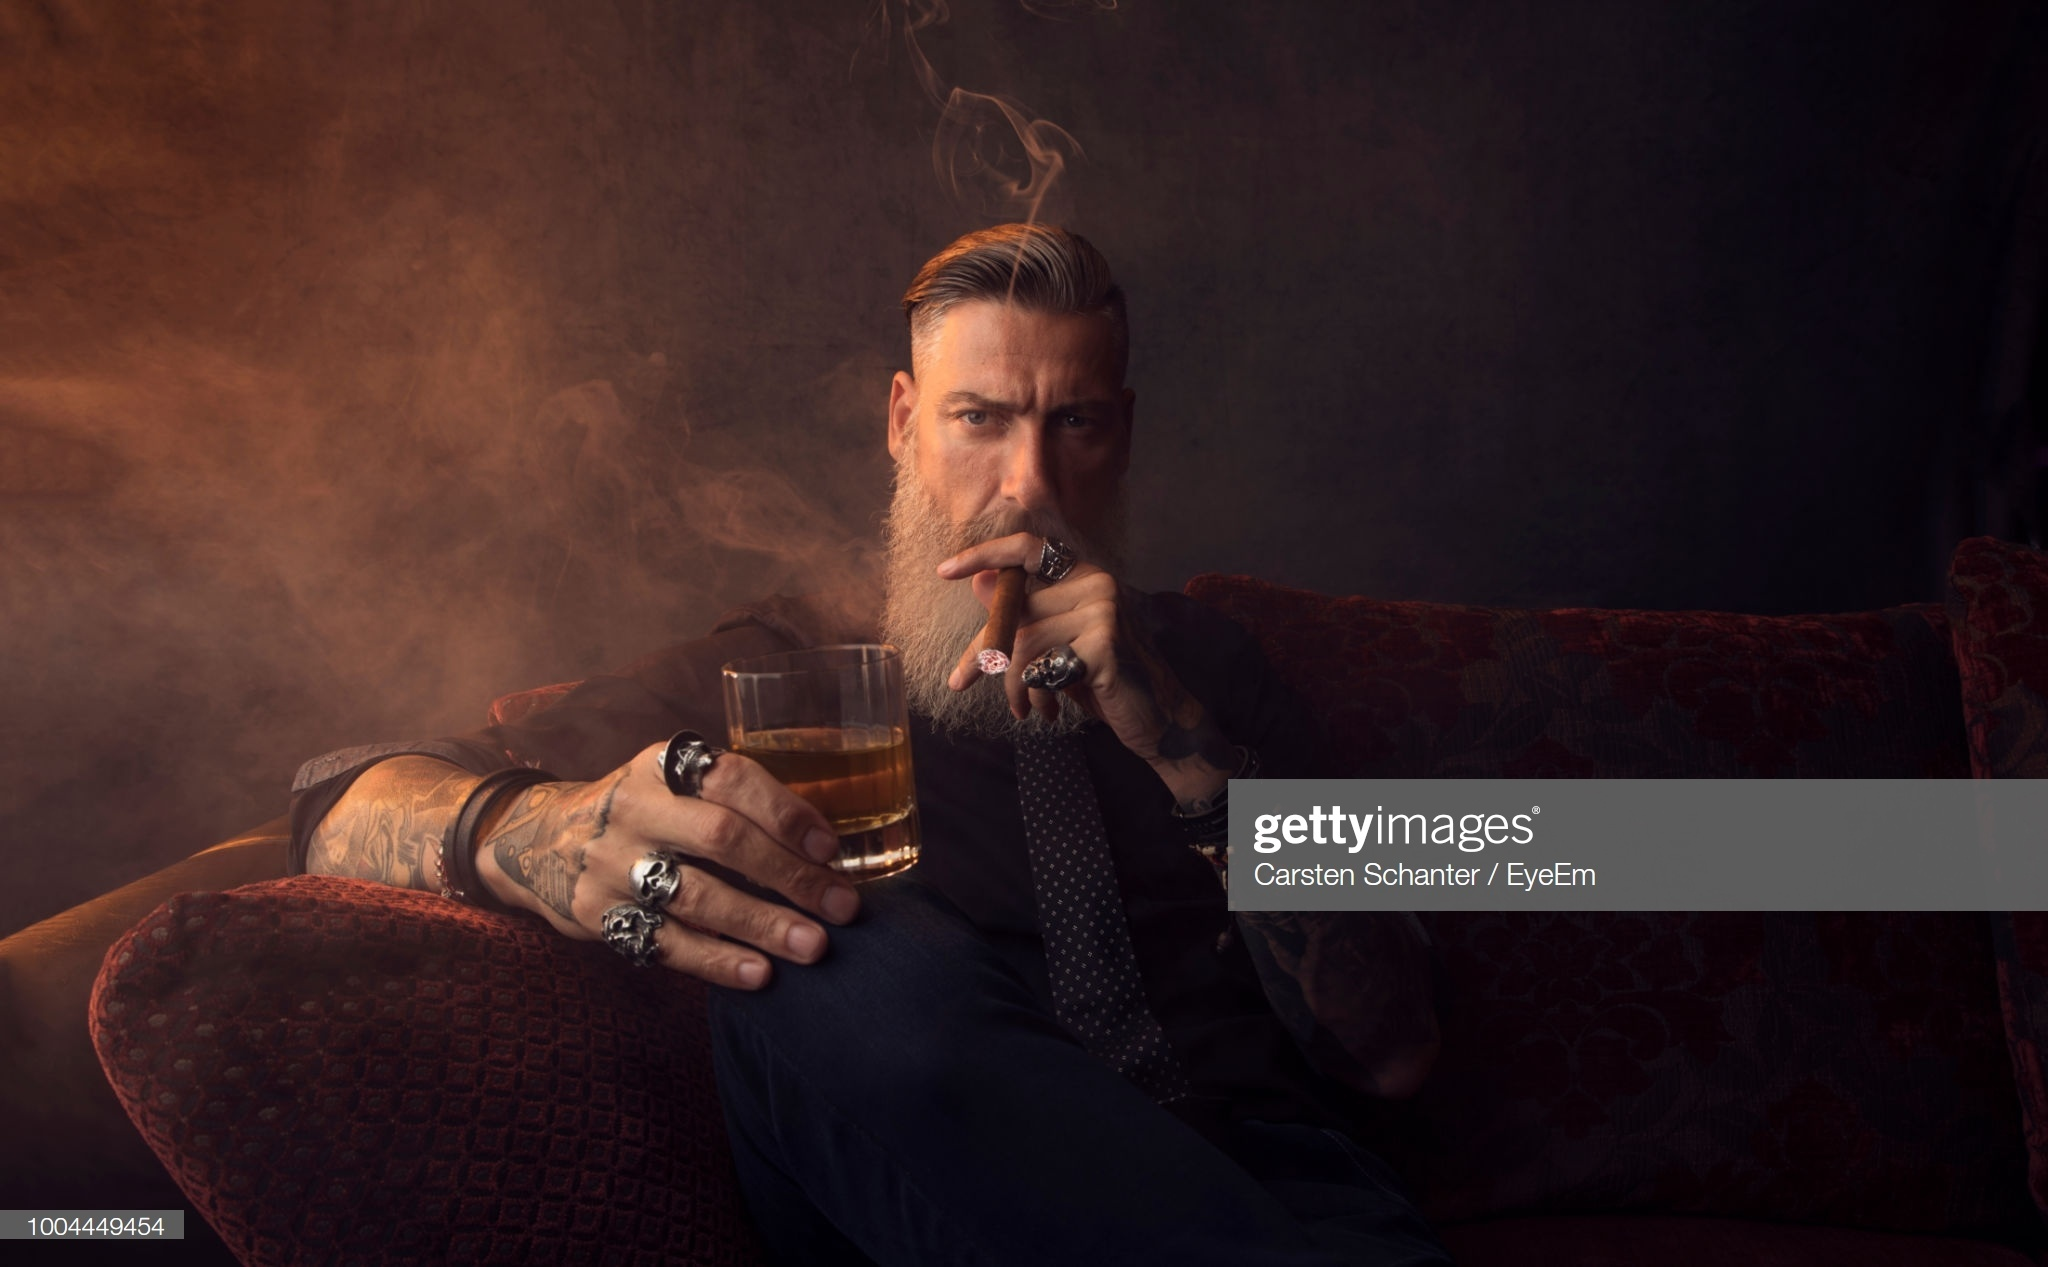whiskey: (705, 626, 925, 911)
